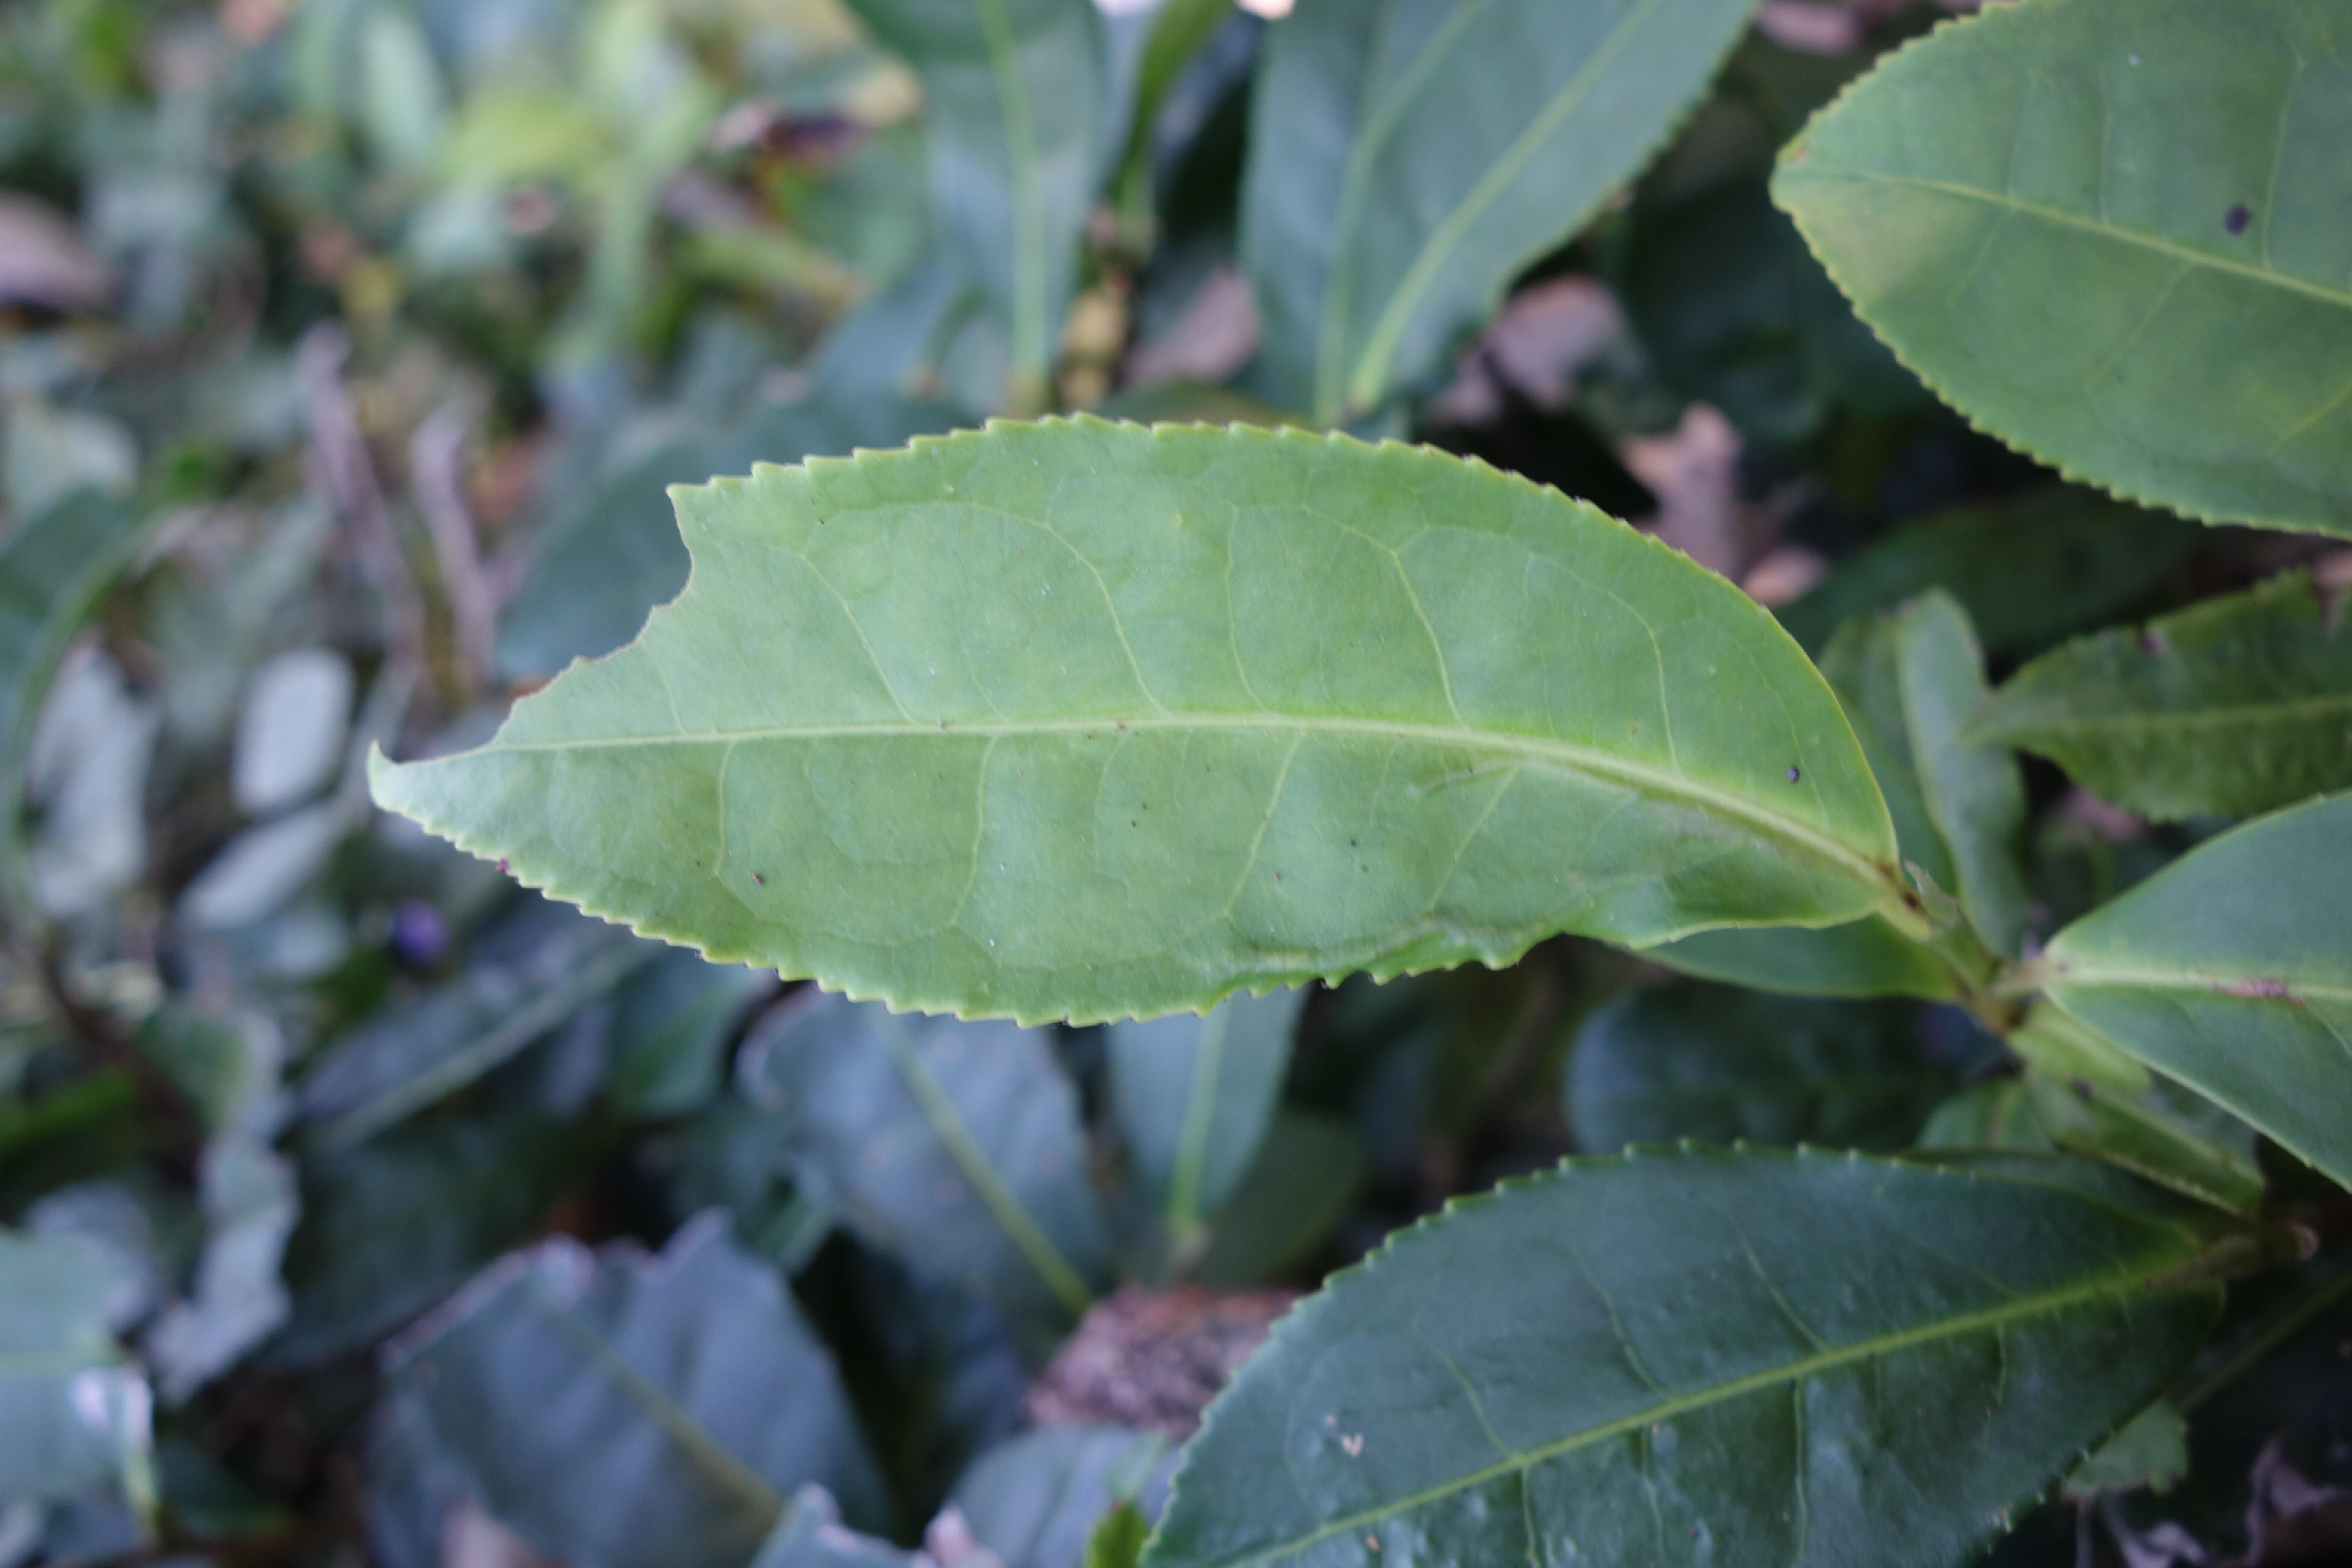chihuo_low: (360, 408, 1897, 1029)
